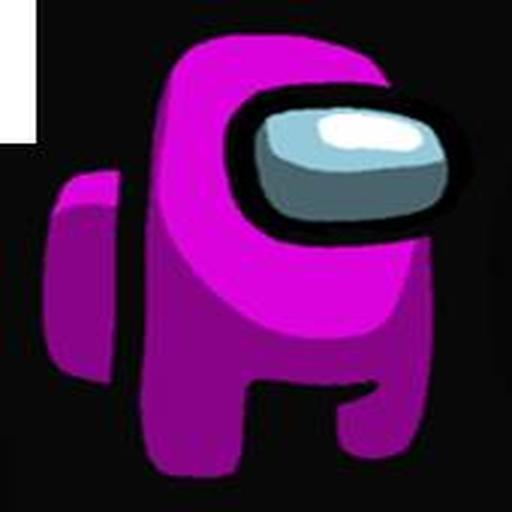Crewmate: (40, 29, 478, 476)
